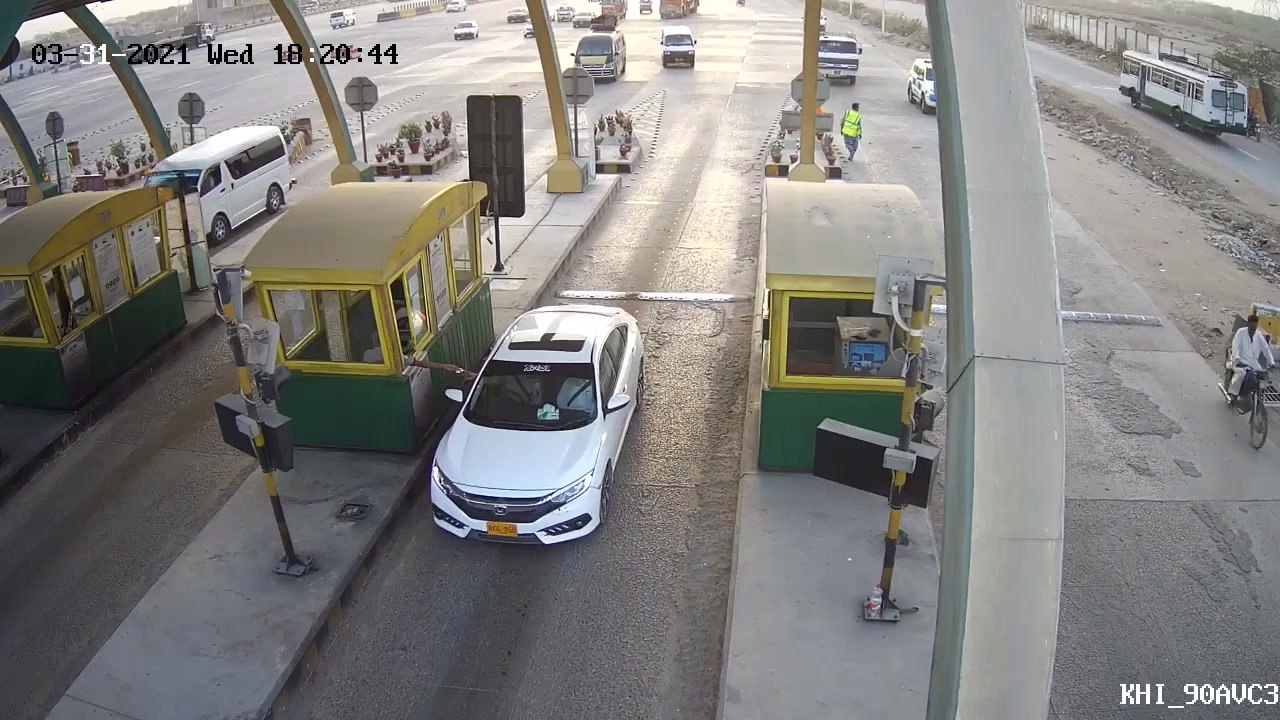F1: (424, 295, 653, 555)
